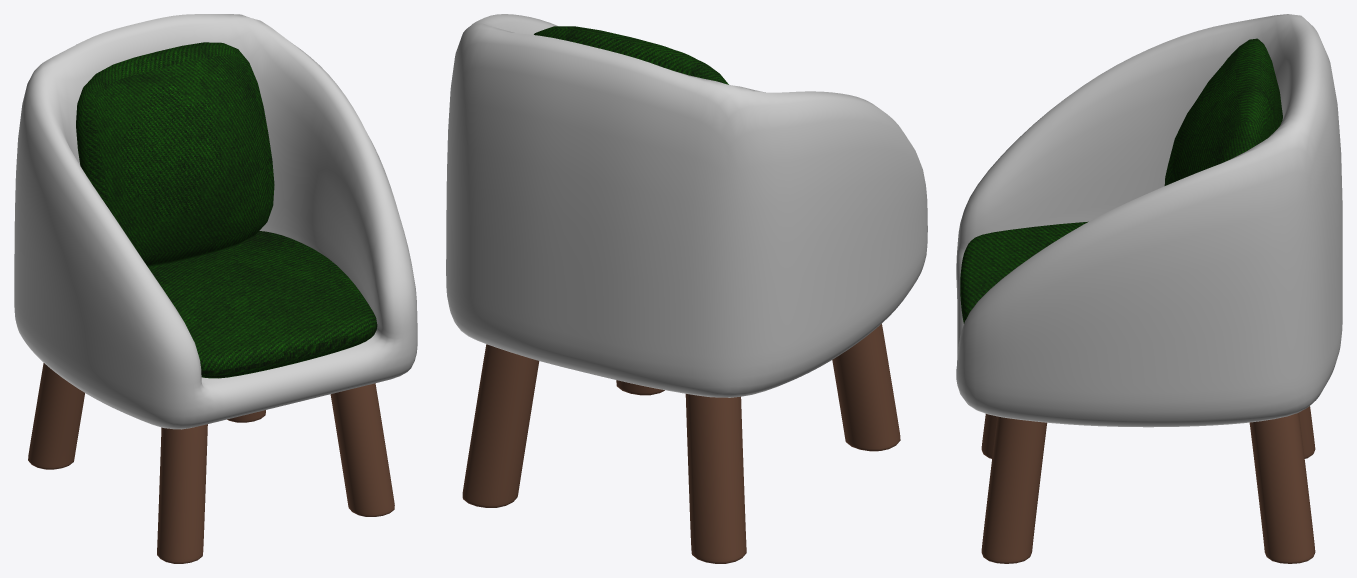
File: Armchair.fbx
3 renders of one model, left to right at view 1: azimuth 30°, elevation 25°; view 2: azimuth 150°, elevation 25°; view 3: azimuth 270°, elevation 25°, orthographic. The views are drawn at different scales.
Visible parts, largest first — view 1: Armchair; view 2: Armchair; view 3: Armchair.
Boxes of the visible parts, <box> form: Armchair: <box>14,14,417,563</box>; Armchair: <box>446,14,927,563</box>; Armchair: <box>956,14,1342,563</box>.
Size of the model in its own units: 72.17 by 90.4 by 70.69.
